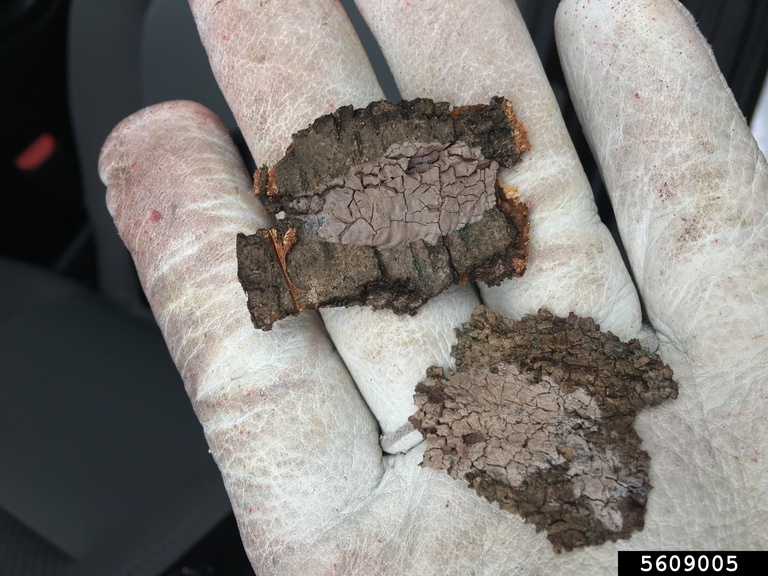egg masses: (419, 344, 624, 529), (288, 161, 500, 242)
